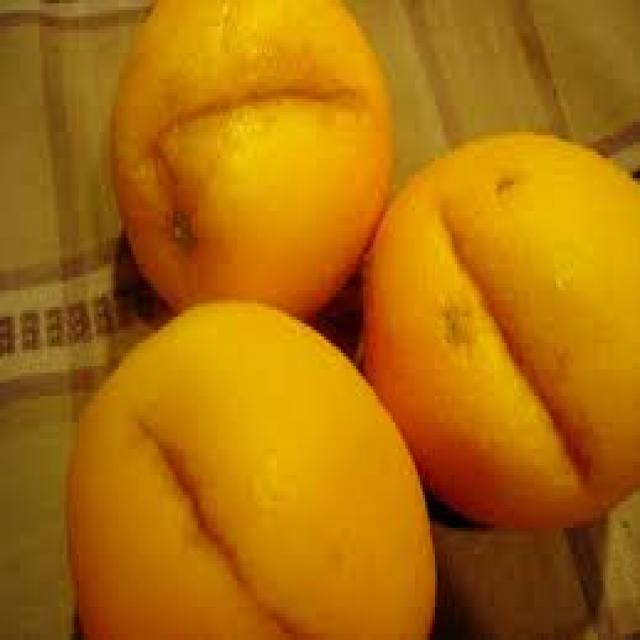organic waste: (62, 294, 435, 636), (358, 125, 638, 531), (106, 0, 385, 313)
